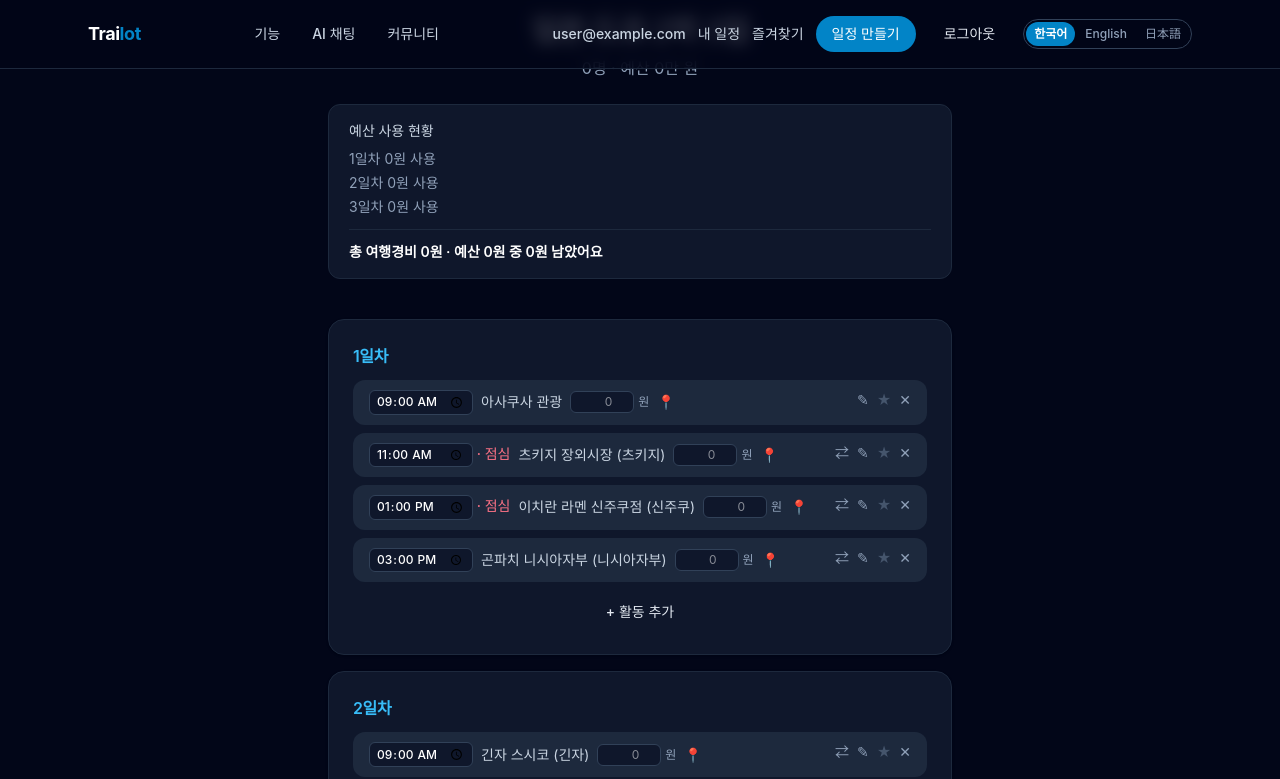
it: TripDetailPage › removes an activity, shows a notice, and persists the change
(page scrolled)
Click the button named "아사쿠사 관광 삭제" at (905, 400), box [899,390,911,410]
(page scrolled)
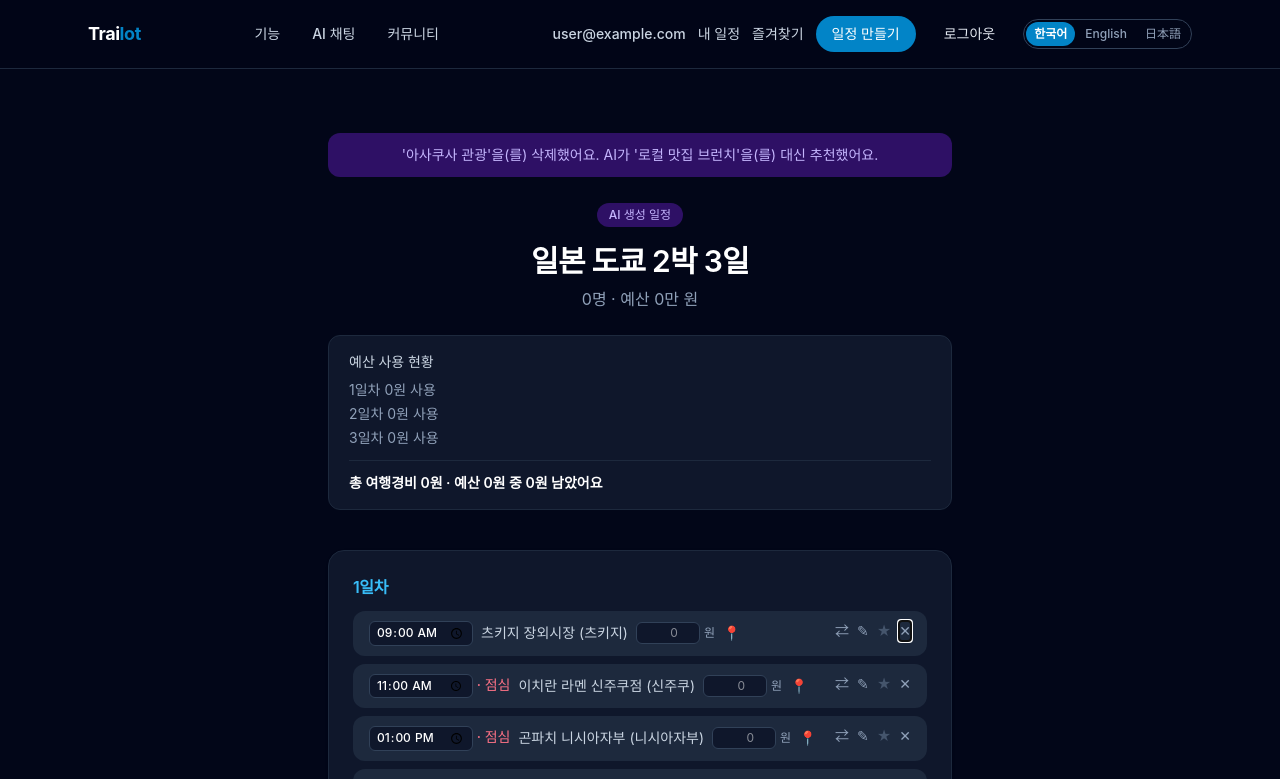
Check: the message shows "AI", box [328,133,952,177]
